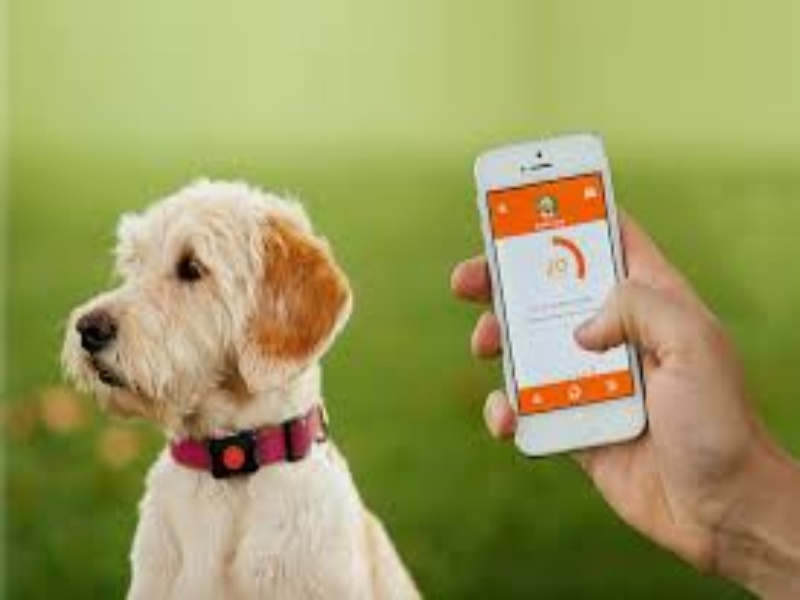dog: (52, 172, 433, 600)
